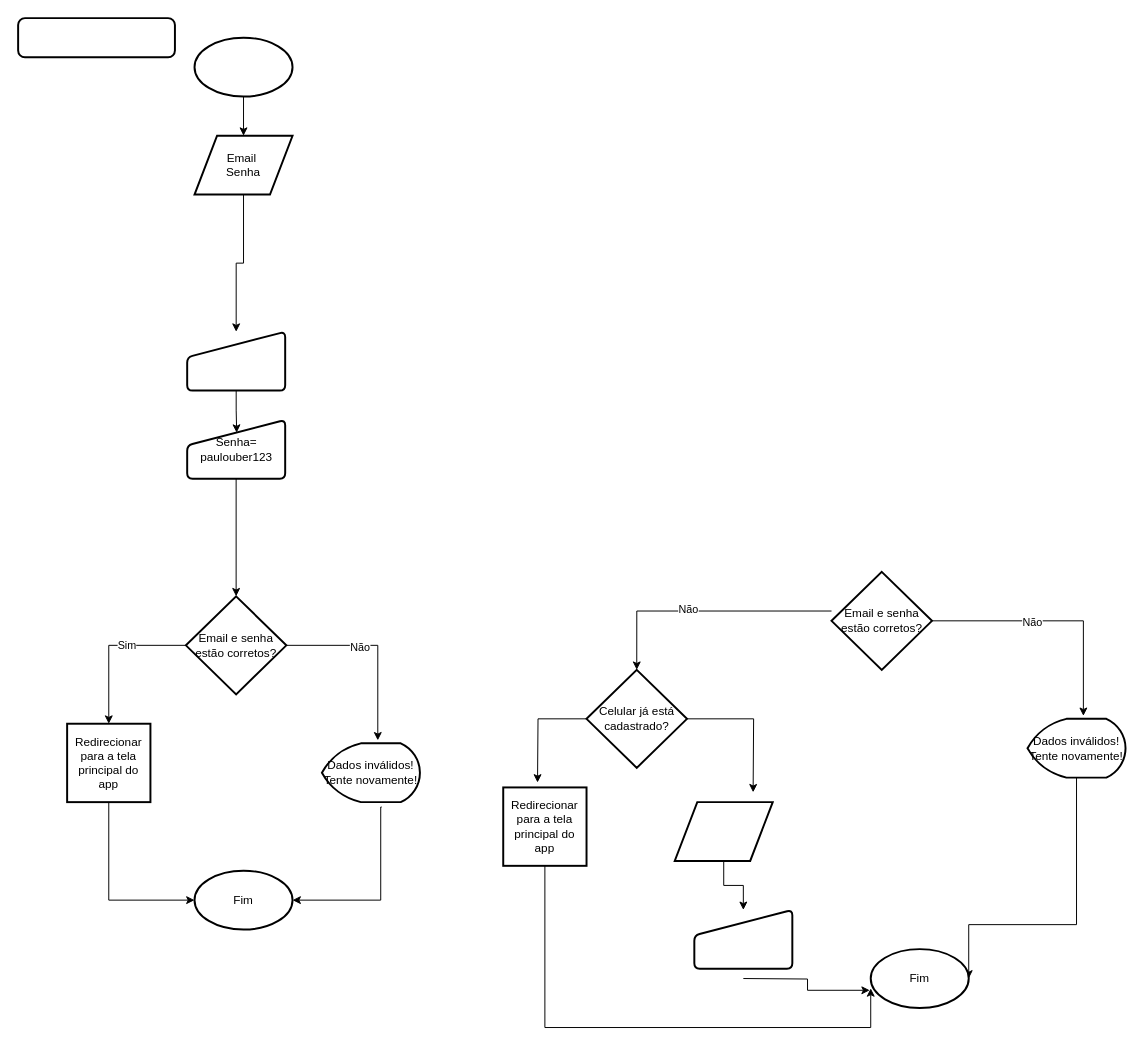
The diagram is 1143 pixels wide and 1053 high, and some of its shapes have lost their labels. Here are the shapes that lost their labels. From the top down, the centre of each, then its label:
At [96,37]: "Como fazer login no aplicativo".
At [243,66]: "Fazer login".
At [236,360]: "Email = paulo@email.com".
At [723,831]: "Celular".
At [743,938]: "Celular = 99999999".
